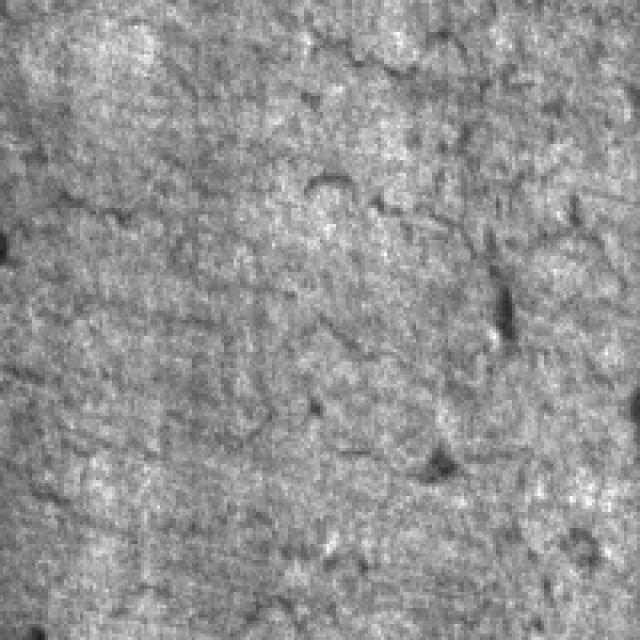crazing: (32, 173, 288, 534), (301, 26, 595, 259), (298, 288, 636, 474)
